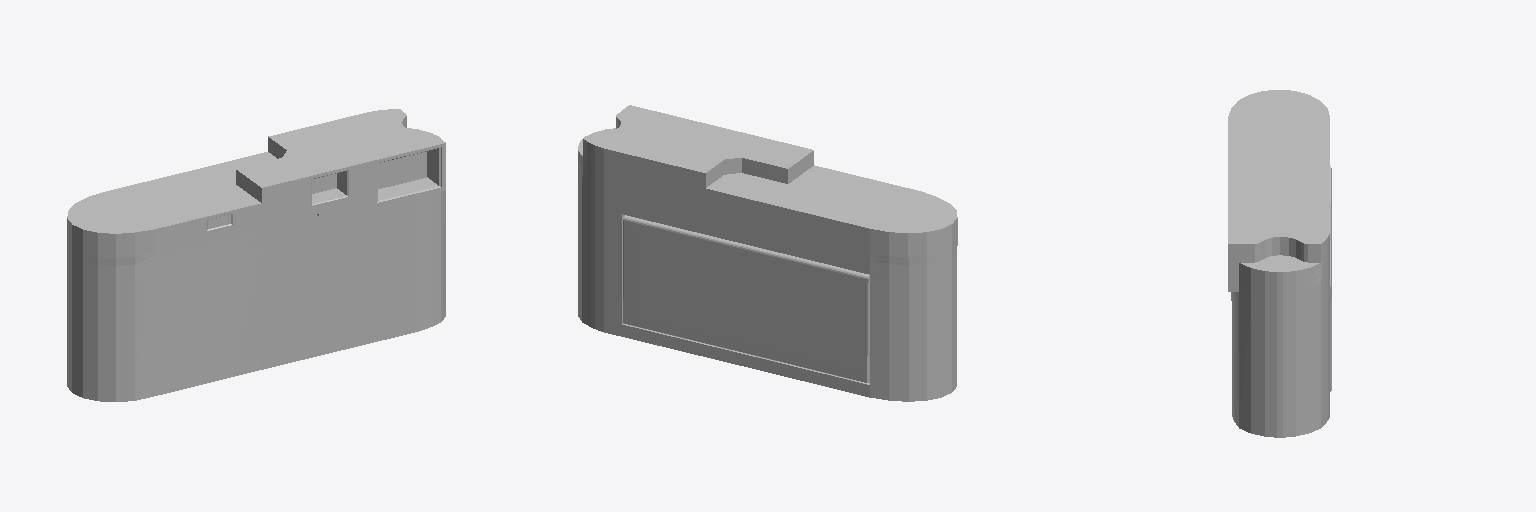
File: Camera_Body_Revert backup 2.obj
3 renders of one model, left to right at view 1: azimuth 30°, elevation 25°; view 2: azimuth 150°, elevation 25°; view 3: azimuth 270°, elevation 25°, orthographic.
Parts seen in each view (by area): view 1: Camera_Body_revert1; view 2: Camera_Body_revert1; view 3: Camera_Body_revert1.
Boxes of the visible parts, x1=… form: Camera_Body_revert1: x1=67, y1=109, x2=445, y2=401; Camera_Body_revert1: x1=578, y1=105, x2=957, y2=401; Camera_Body_revert1: x1=1228, y1=90, x2=1331, y2=437.
Size of the model in its own units: 12.73 by 6.08 by 3.12.